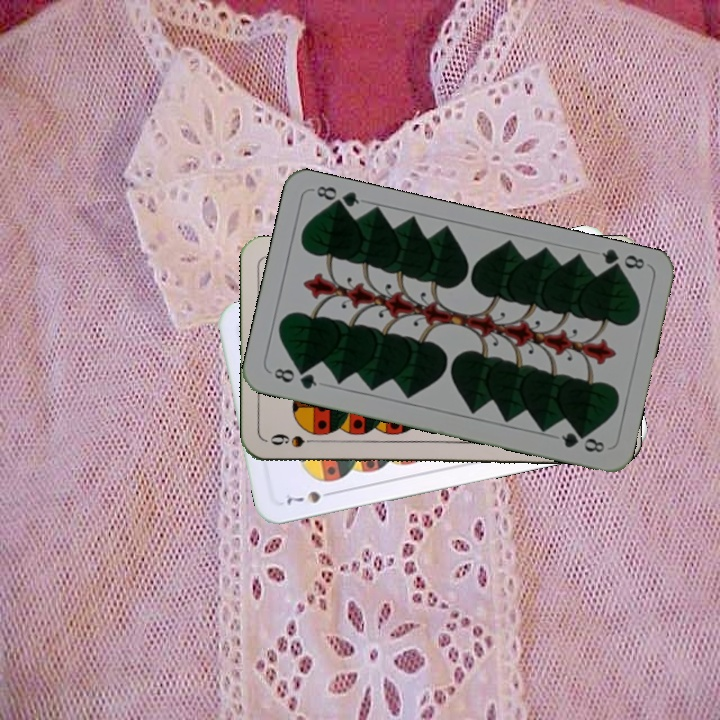G8: (597, 245, 647, 277), (270, 364, 320, 392)
S7: (282, 487, 338, 507)
S9: (266, 430, 325, 450)
